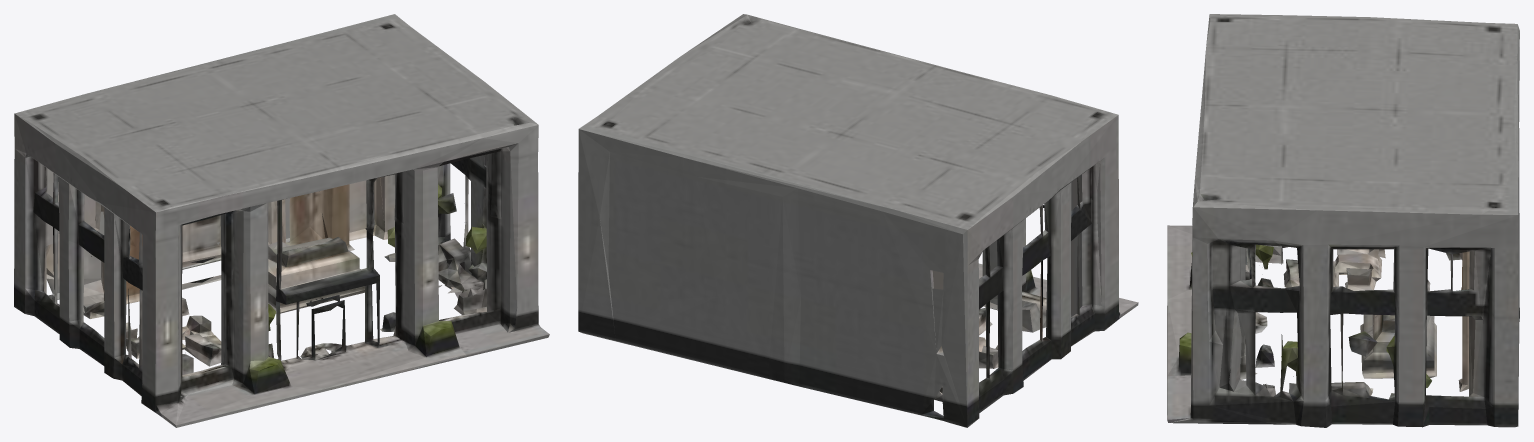
Rendered from kit5-base.glb.
The picture shows the model from 3 angles, left to right: view 1: azimuth 30°, elevation 25°; view 2: azimuth 150°, elevation 25°; view 3: azimuth 270°, elevation 25°; orthographic projection. The views are drawn at different scales.
Parts seen in each view (by area): view 1: Mesh_0.001; view 2: Mesh_0.001; view 3: Mesh_0.001.
Part boxes in pixels (x1,y1,x2,y2): Mesh_0.001: (14,14,549,427); Mesh_0.001: (578,14,1138,427); Mesh_0.001: (1167,14,1519,427).
Size of the model in its own units: 0.9977 by 0.5117 by 0.7442.
Materials: 1 (1 with a texture image).
